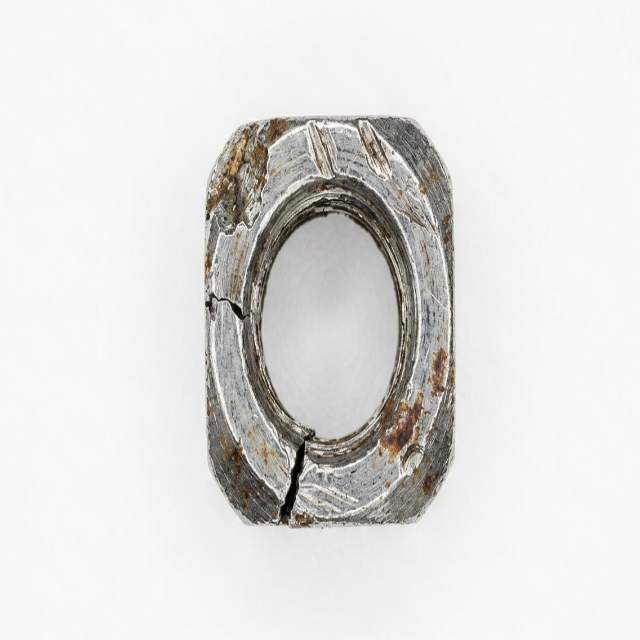defect: (202, 110, 292, 246), (274, 421, 325, 533), (354, 115, 401, 184), (200, 288, 272, 333), (301, 119, 343, 181), (394, 437, 432, 475)
